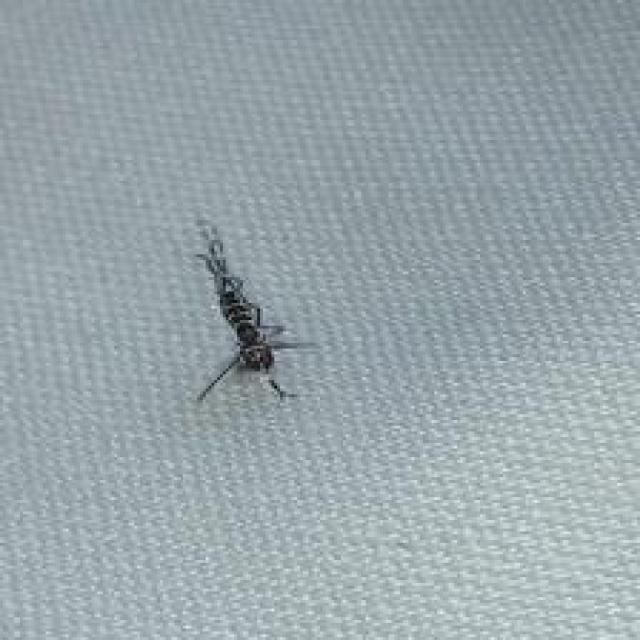Aedes albopictus: (193, 223, 318, 406)
